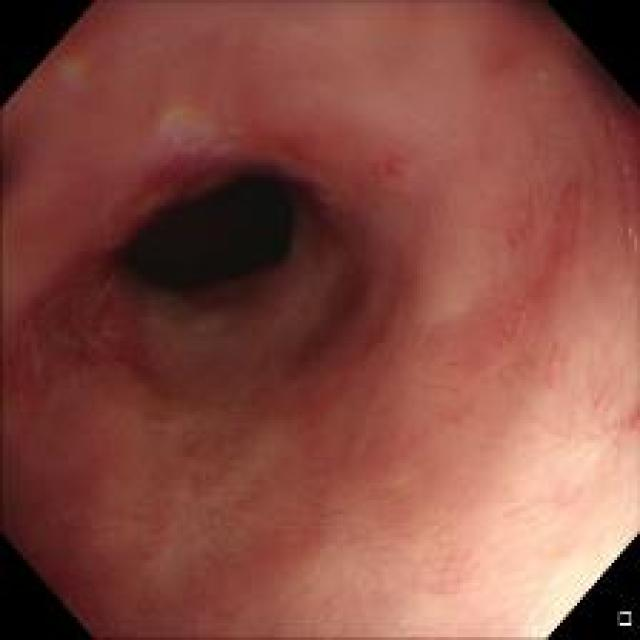color misalignment: (46, 55, 99, 108)
contrast: (95, 149, 308, 309)
saturation: (460, 498, 631, 630)
